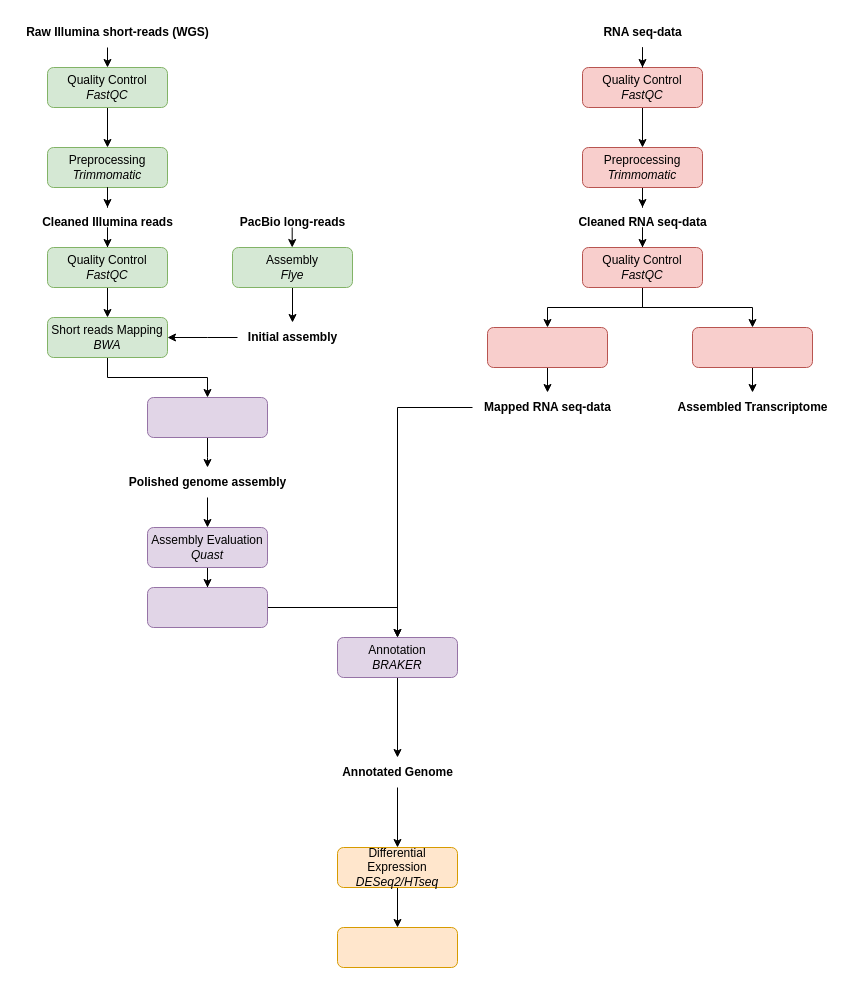
Some shapes in this 854 by 985 pixel diagram are drawn without their labels. Each missing label, with the centre of its shape:
"Assembly fine-tuning Repeatmasker" belongs at point (207, 607).
"Assembly Polishing Pilon" belongs at point (207, 417).
"RNA Mapping STAR" belongs at point (547, 347).
"Transcriptome Assembly Trinity" belongs at point (752, 347).
"Visualisation IGV" belongs at point (397, 947).
